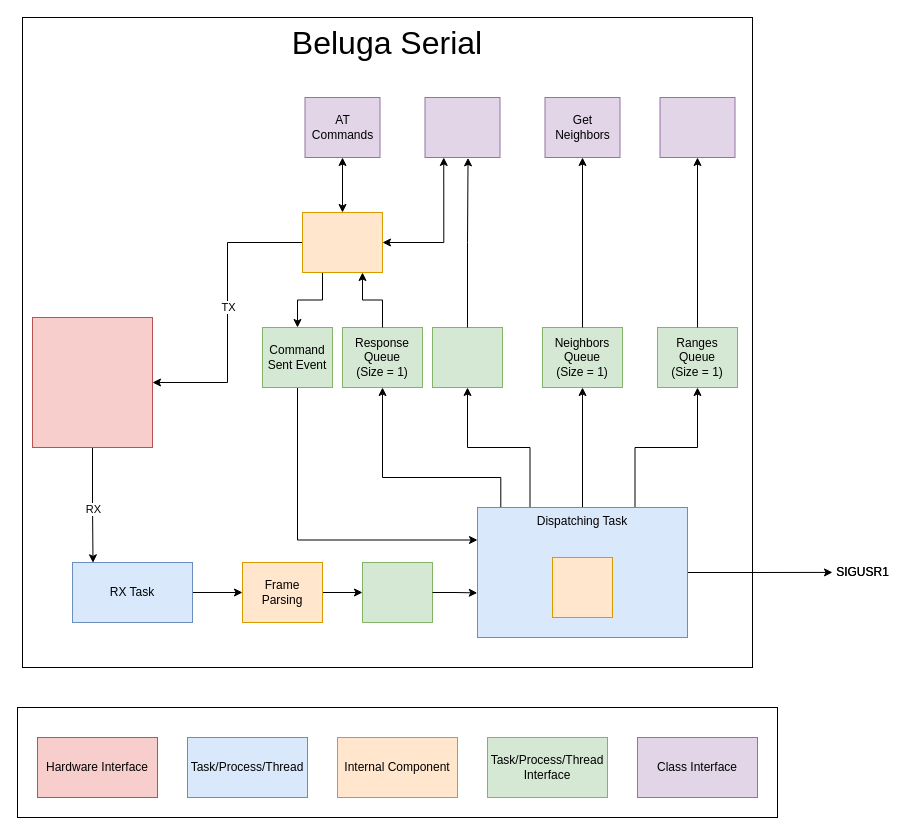
The diagram is 920 pixels wide and 835 high, and some of its shapes have lost their labels. Here are the shapes that lost their labels. From the top down, the box of each, then its label:
(424, 96, 500, 158): Reboot Command
(659, 96, 735, 158): Get Ranges
(302, 212, 382, 272): Command Interface
(432, 326, 502, 388): Reboot Done Event
(32, 316, 152, 448): Beluga USB
(362, 562, 432, 622): RX Batch Queue (Size = 10)
(552, 556, 612, 618): Neighbors List
(16, 706, 778, 818): Key
